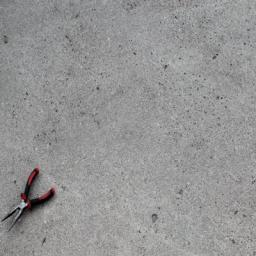FOD: (2, 167, 57, 235)
